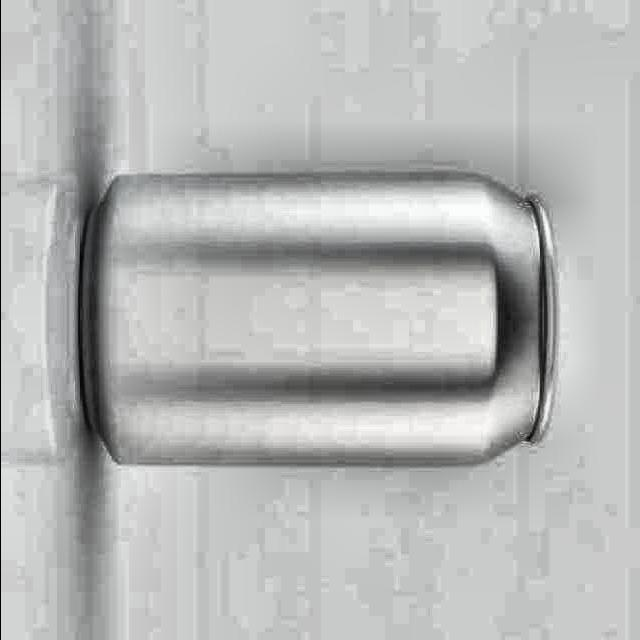Aluminum Can: (66, 167, 565, 482)
